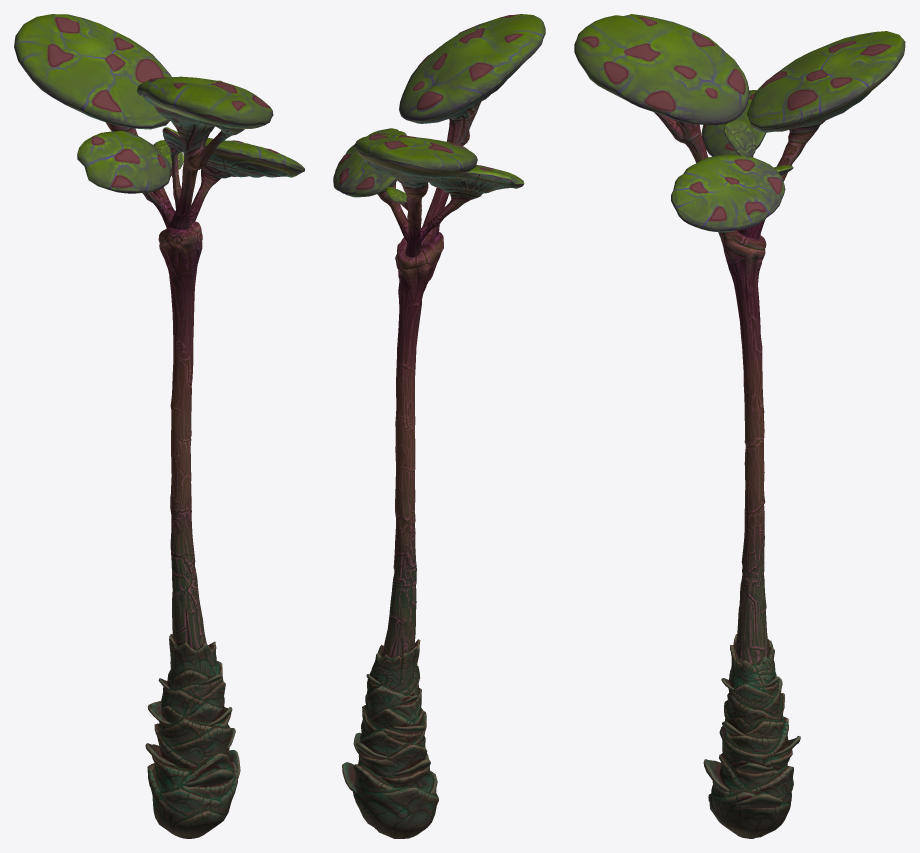
File: VegetationLarge07.fbx
3 views of the same model, side by side, from view 1: azimuth 30°, elevation 25°; view 2: azimuth 150°, elevation 25°; view 3: azimuth 270°, elevation 25° (orthographic). The views are drawn at different scales.
Parts seen in each view (by area): view 1: VegetationLarge07_LOD00; view 2: VegetationLarge07_LOD00; view 3: VegetationLarge07_LOD00.
Boxes of the visible parts, box(x1,y1,x2,y2) form: VegetationLarge07_LOD00: box(14, 14, 304, 838); VegetationLarge07_LOD00: box(333, 14, 545, 838); VegetationLarge07_LOD00: box(574, 14, 905, 838).
Size of what is drawn, in the model's own units: 581 by 2238 by 856.
